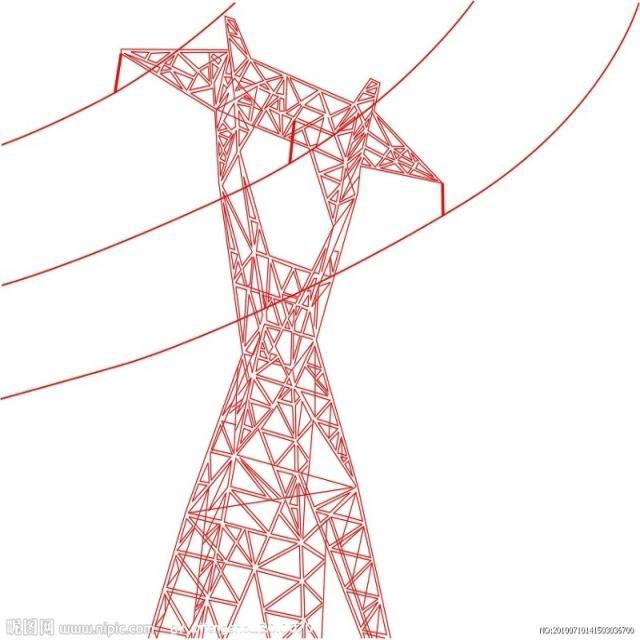non-critical vegetation: (92, 26, 423, 637)
